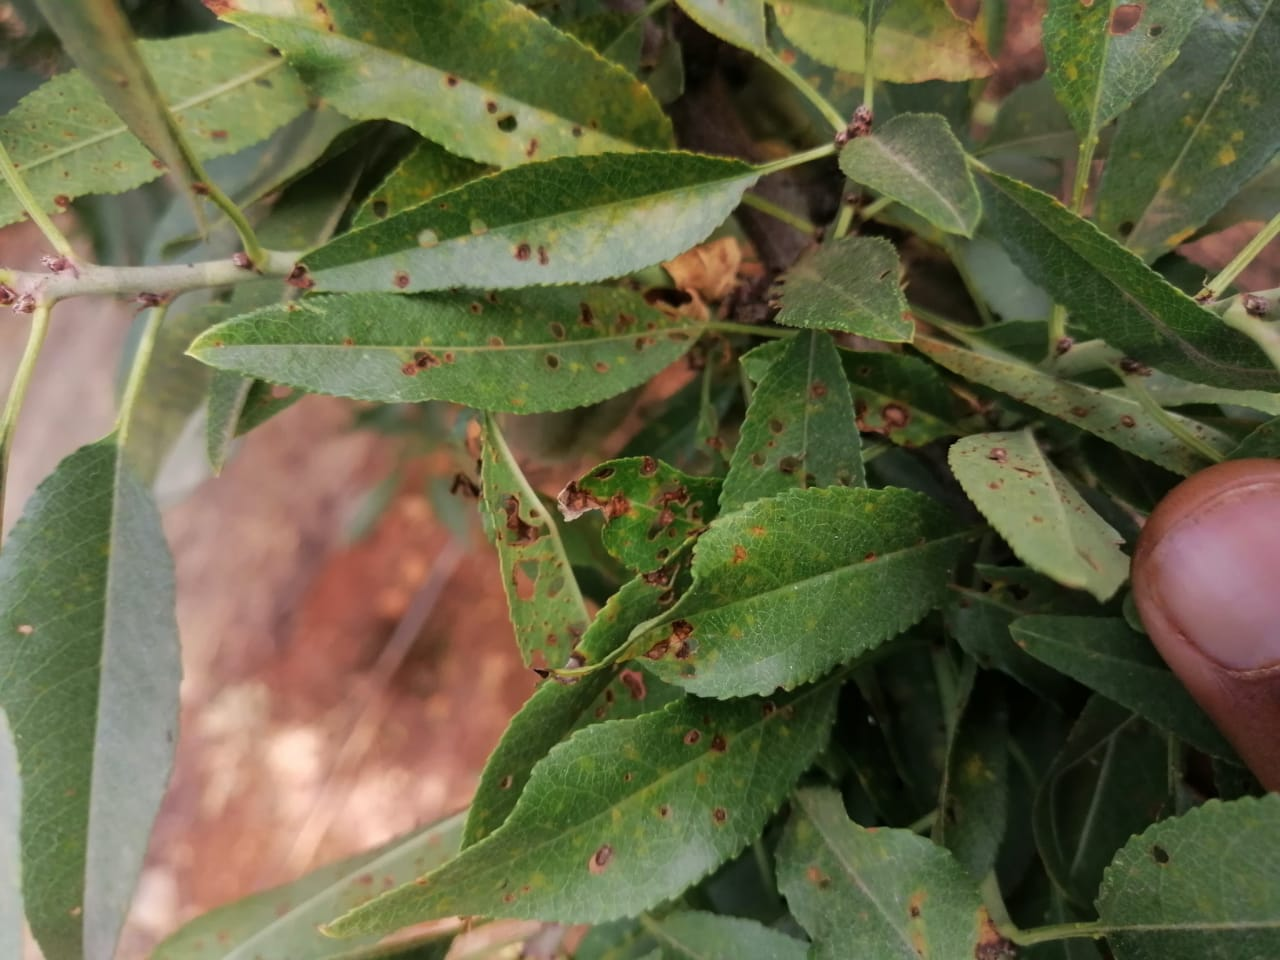coryneum: (621, 485, 973, 703), (283, 151, 764, 298), (183, 282, 703, 416), (947, 427, 1131, 604), (557, 453, 723, 575)
